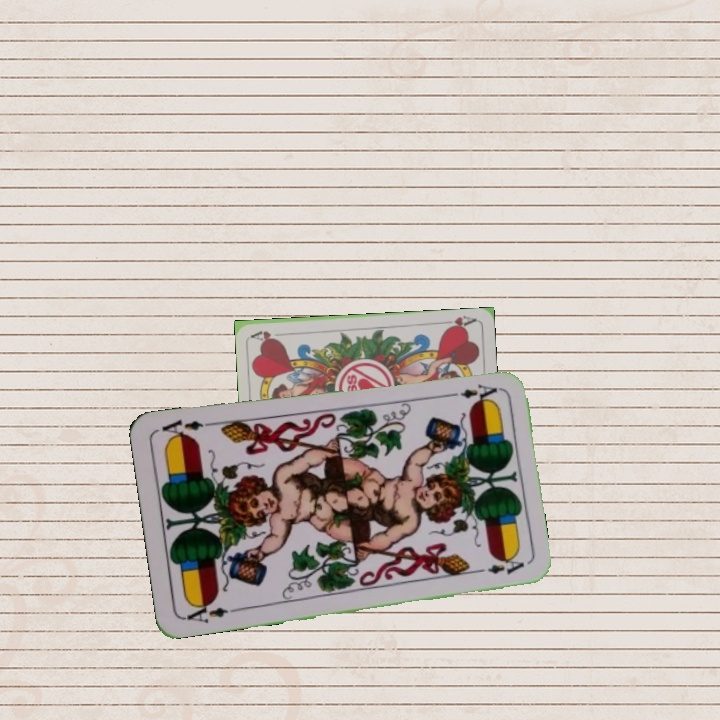EA: (180, 597, 239, 626), (442, 380, 500, 401)
HA: (438, 311, 478, 332)
